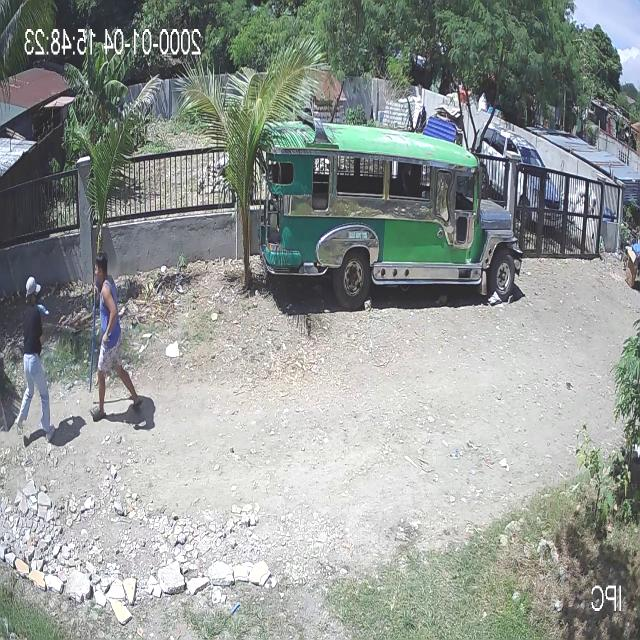running: (88, 251, 142, 420), (17, 274, 55, 440)
